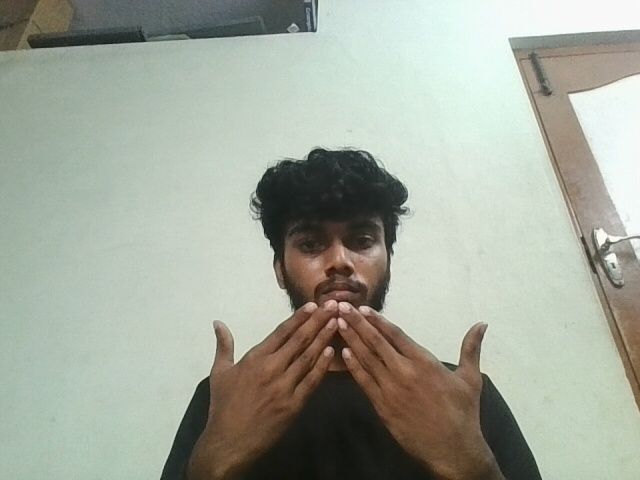thankyou: (194, 294, 508, 465)
